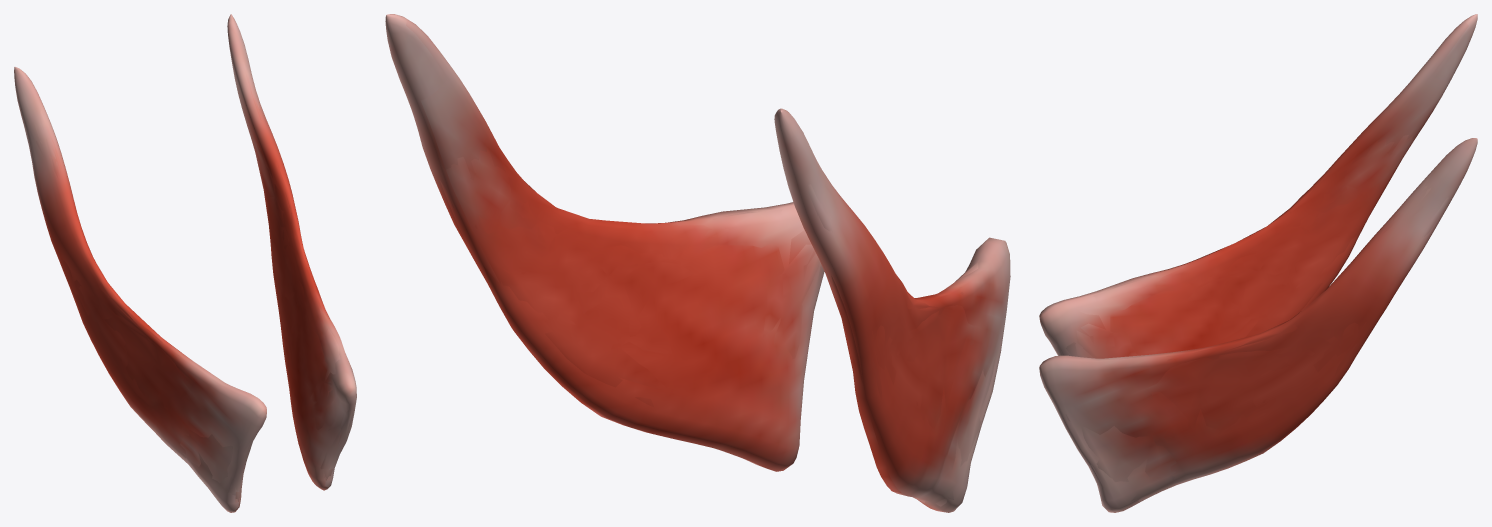
File: Buccinator.fbx
The picture shows the model from 3 angles, left to right: view 1: azimuth 30°, elevation 25°; view 2: azimuth 150°, elevation 25°; view 3: azimuth 270°, elevation 25°; orthographic projection. The views are drawn at different scales.
Visible parts, largest first — view 1: Buccinator, Buccinator low; view 2: Buccinator, Buccinator low; view 3: Buccinator, Buccinator low.
Boxes of the visible parts, x1,y1,x2,y2 form: Buccinator: [14, 14, 356, 512]; Buccinator low: [24, 61, 352, 501]; Buccinator: [385, 14, 1010, 512]; Buccinator low: [437, 148, 1003, 506]; Buccinator: [1039, 14, 1477, 512]; Buccinator low: [1050, 56, 1448, 501].
Size of the model in its own units: 17.41 by 25.04 by 24.35.
1 material, 1 textured.
